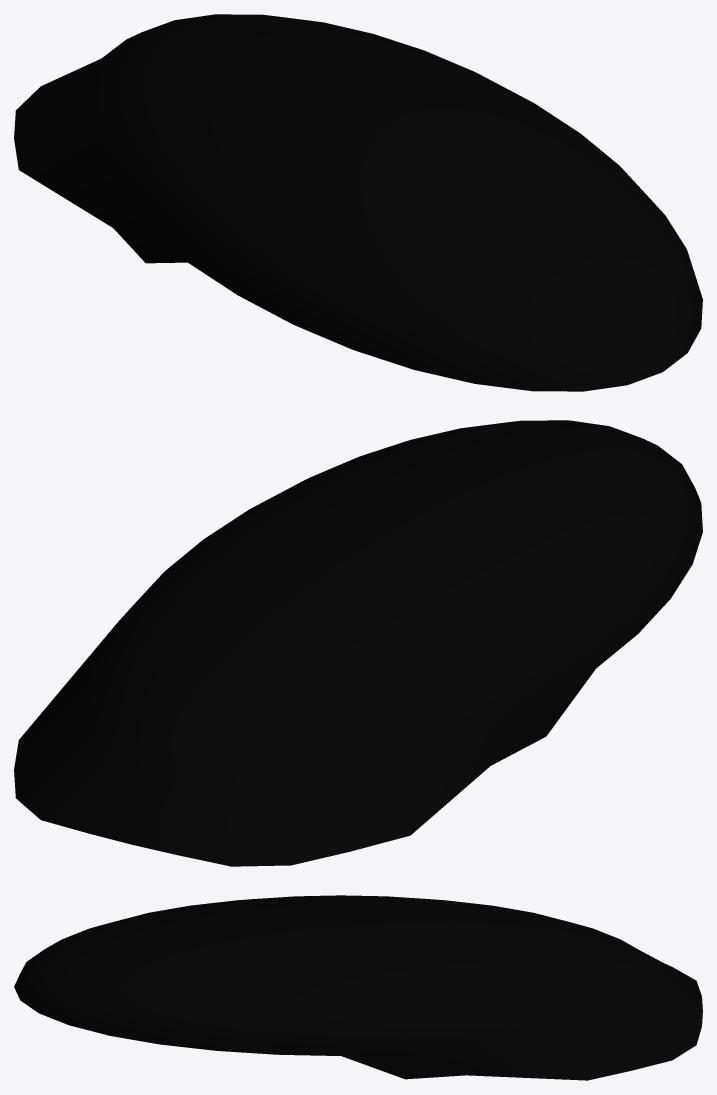
File: helmet.fbx
3 views of the same model, one above another, from view 1: azimuth 30°, elevation 25°; view 2: azimuth 150°, elevation 25°; view 3: azimuth 270°, elevation 25° (orthographic). The views are drawn at different scales.
Parts seen in each view (by area): view 1: helmet; view 2: helmet; view 3: helmet.
Part boxes in pixels (left/top/right/bottom): helmet: left=14, top=14, right=702, bottom=391; helmet: left=14, top=420, right=702, bottom=866; helmet: left=14, top=895, right=702, bottom=1080.
Size of the model in its own units: 493 by 145 by 1037.
Materials: 1 (1 with a texture image).
